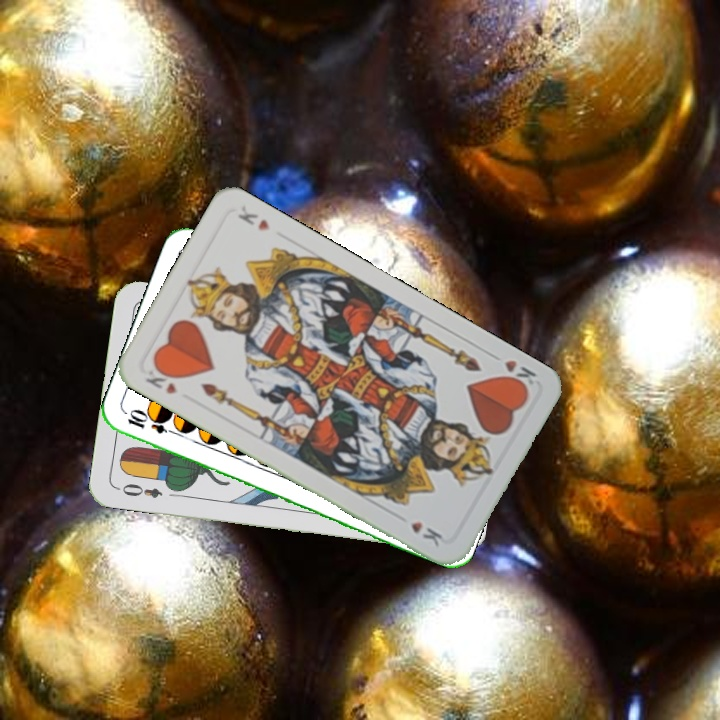E10: (123, 408, 182, 438)
EO: (113, 479, 165, 501)
HK: (486, 349, 539, 393), (141, 361, 181, 397)
